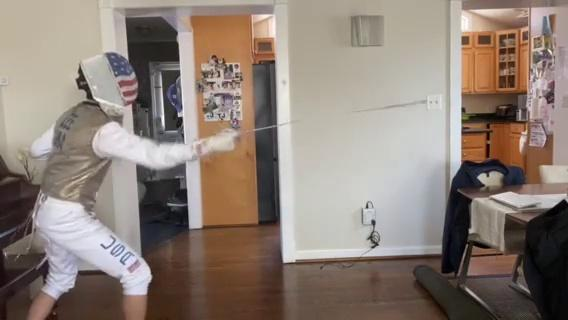blade-guard: (232, 125, 250, 145)
blade-tip: (379, 101, 433, 111)
fencing-blade: (227, 100, 435, 147)
